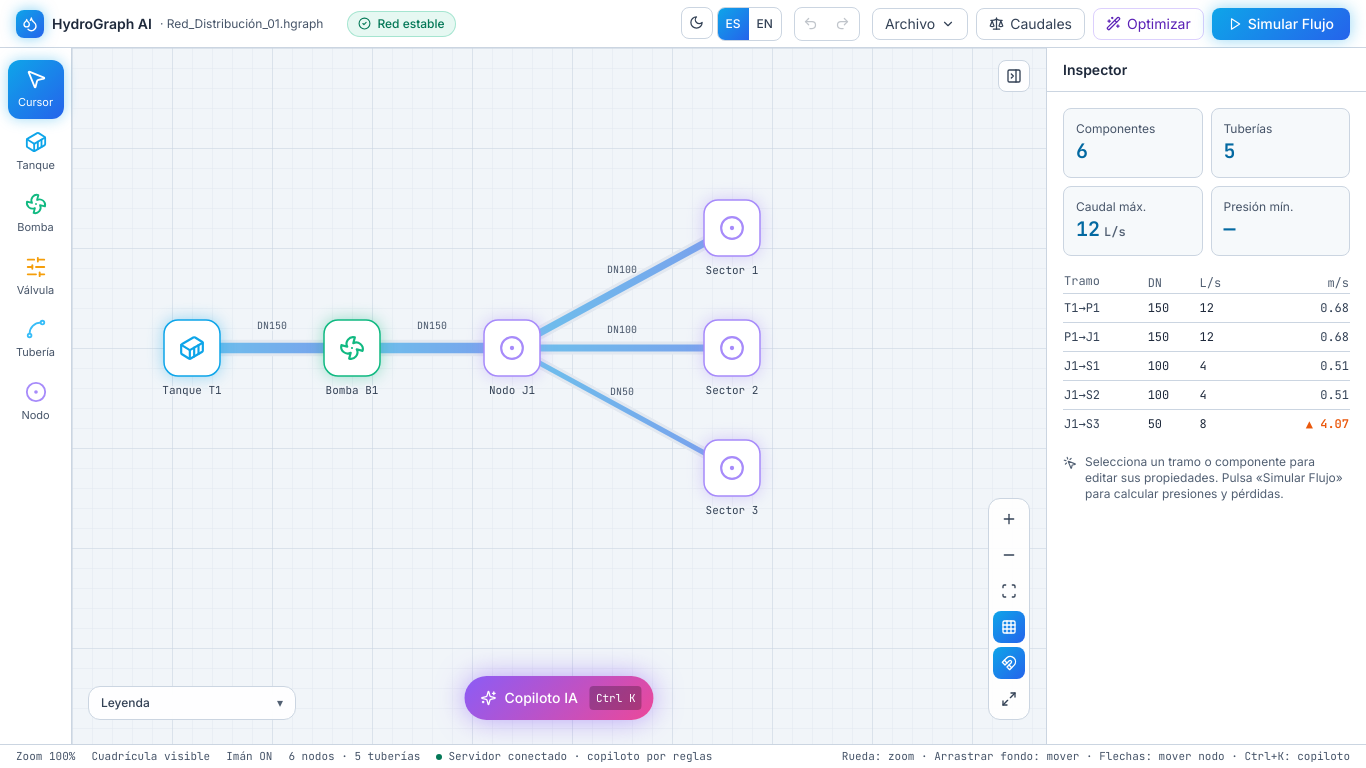
Test: App › calcular caudales sin servidor lo explica
Click the button titled "Calcula los caudales" at (1031, 24), box [976,8,1085,40]
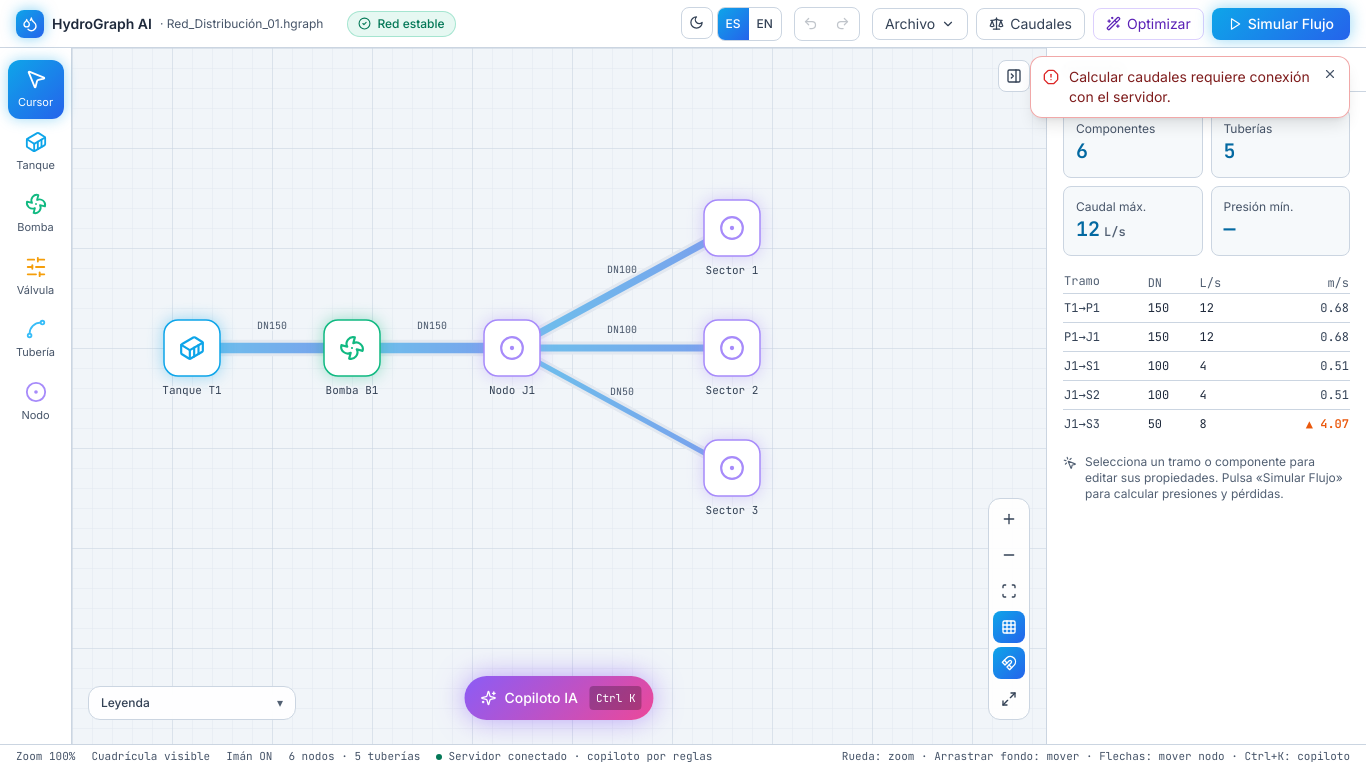
Now the text "Calcular caudales requiere conexión con el servidor." is shown, box [1069,67,1313,107]
